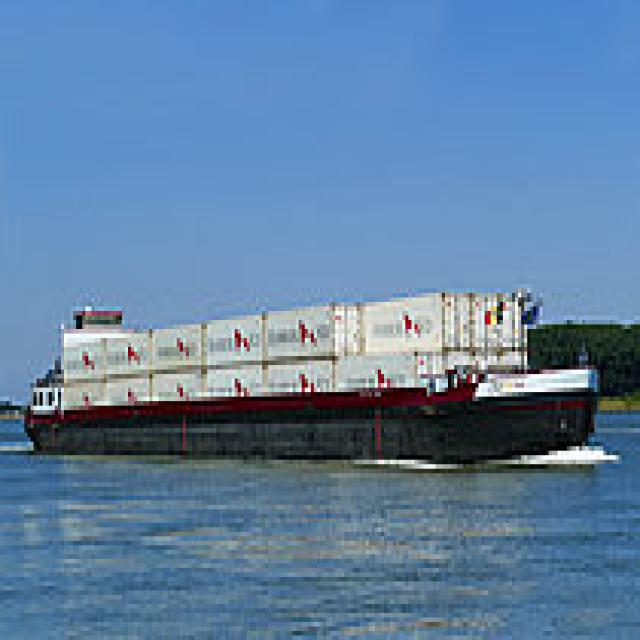Cargo: (19, 279, 598, 460)
